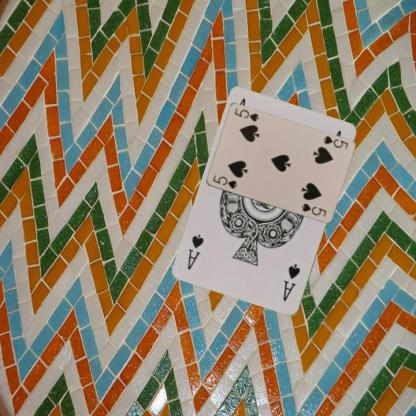5s: (210, 173, 238, 190), (321, 134, 349, 150)
As: (280, 261, 302, 303)
